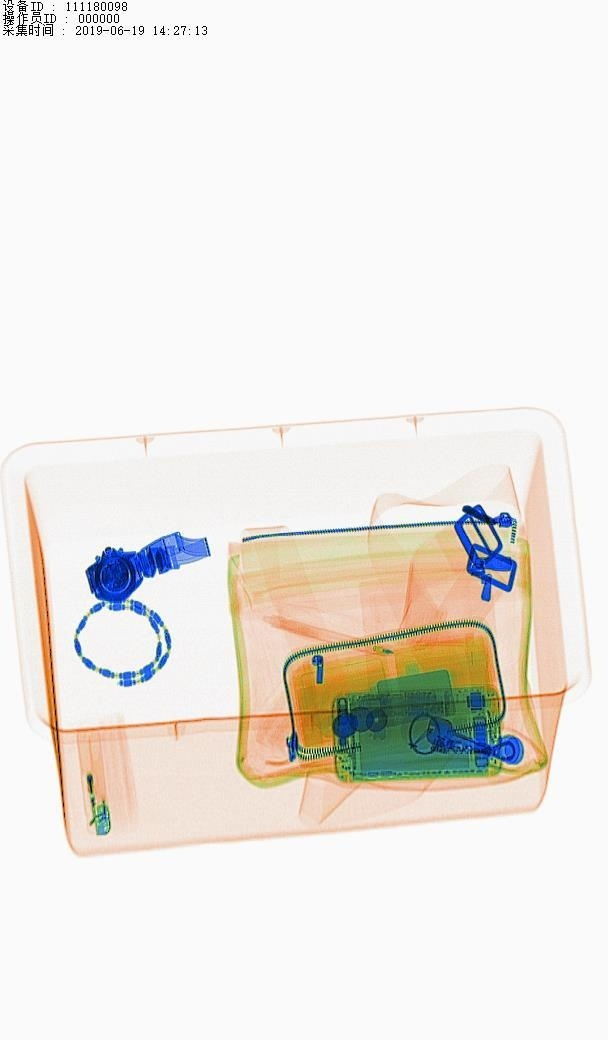NonmetallicFire: (71, 712, 128, 849)
